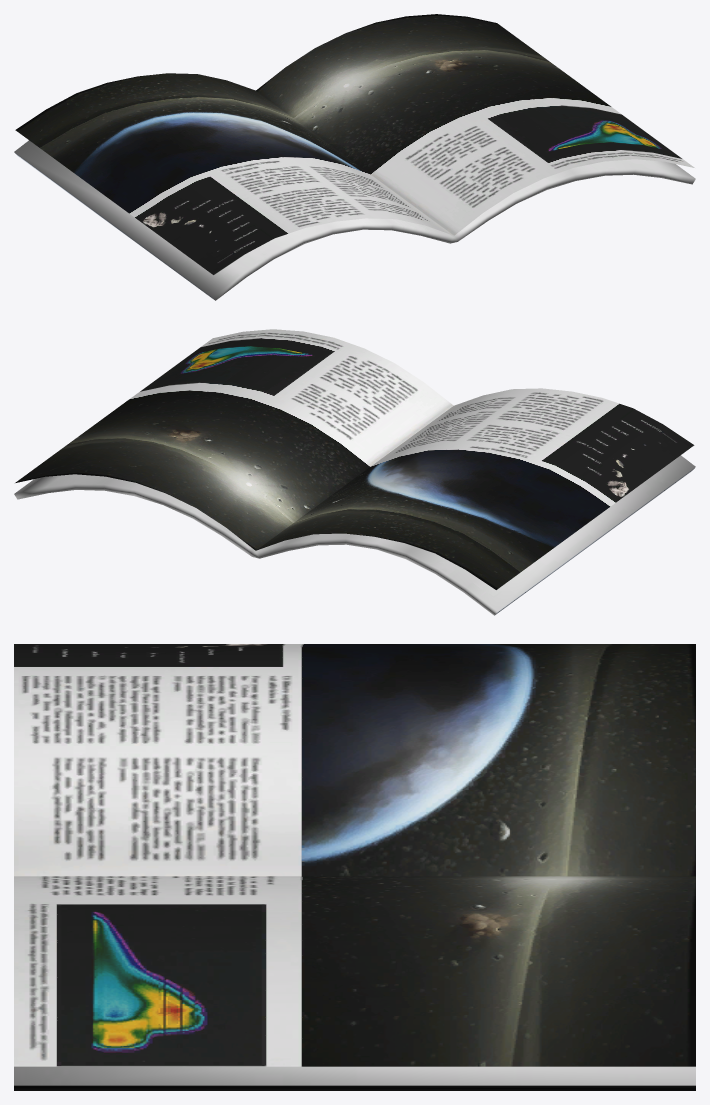
File: magazine_tech_open.dae
3 renders of one model, top to bottom at view 1: azimuth 30°, elevation 25°; view 2: azimuth 150°, elevation 25°; view 3: azimuth 270°, elevation 25°, orthographic. The views are drawn at different scales.
Parts seen in each view (by area): view 1: magazine_tech_open; view 2: magazine_tech_open; view 3: magazine_tech_open.
Boxes of the visible parts, x1=… form: magazine_tech_open: x1=14, y1=14, x2=695, y2=300; magazine_tech_open: x1=14, y1=329, x2=695, y2=615; magazine_tech_open: x1=14, y1=644, x2=695, y2=1090.
Bounding box in the file's own units: 39.45 × 3.98 × 28.
